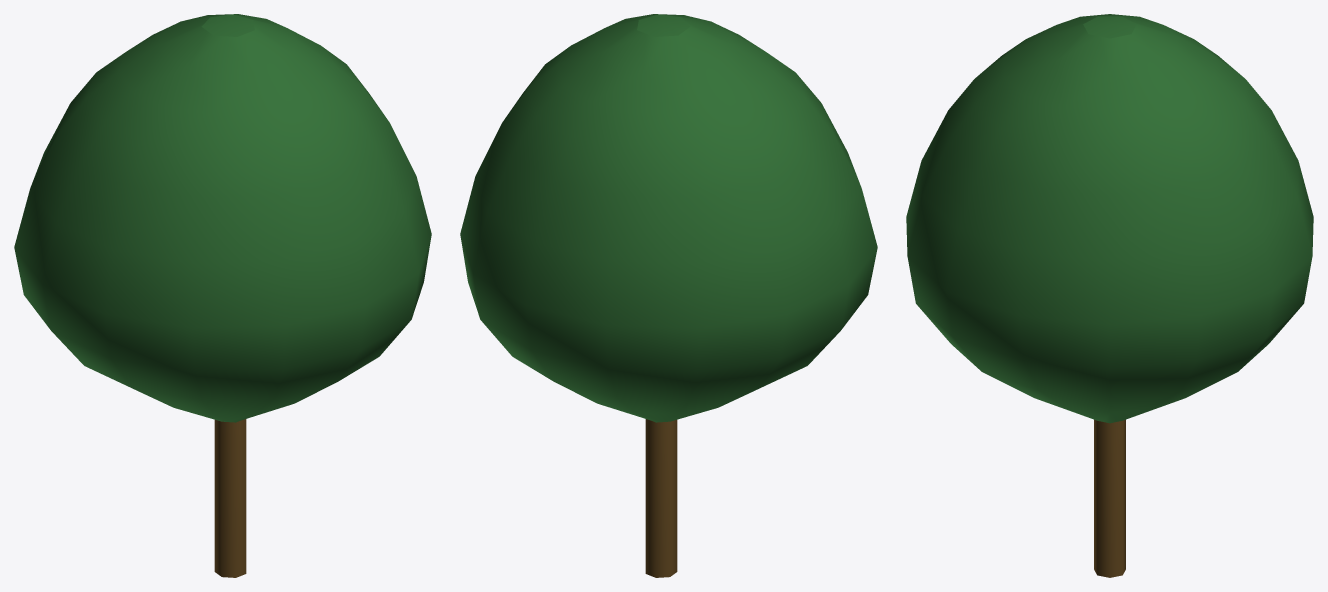
File: arbree2022_2.fbx
3 renders of one model, left to right at view 1: azimuth 30°, elevation 25°; view 2: azimuth 150°, elevation 25°; view 3: azimuth 270°, elevation 25°, orthographic.
Visible parts, largest first — view 1: pCylinder2; view 2: pCylinder2; view 3: pCylinder2.
Part boxes in pixels (<box>): pCylinder2: <box>14,14,431,577</box>; pCylinder2: <box>460,14,877,577</box>; pCylinder2: <box>906,14,1313,577</box>.
Size of the model in its own units: 25.51 by 36.93 by 24.94.
